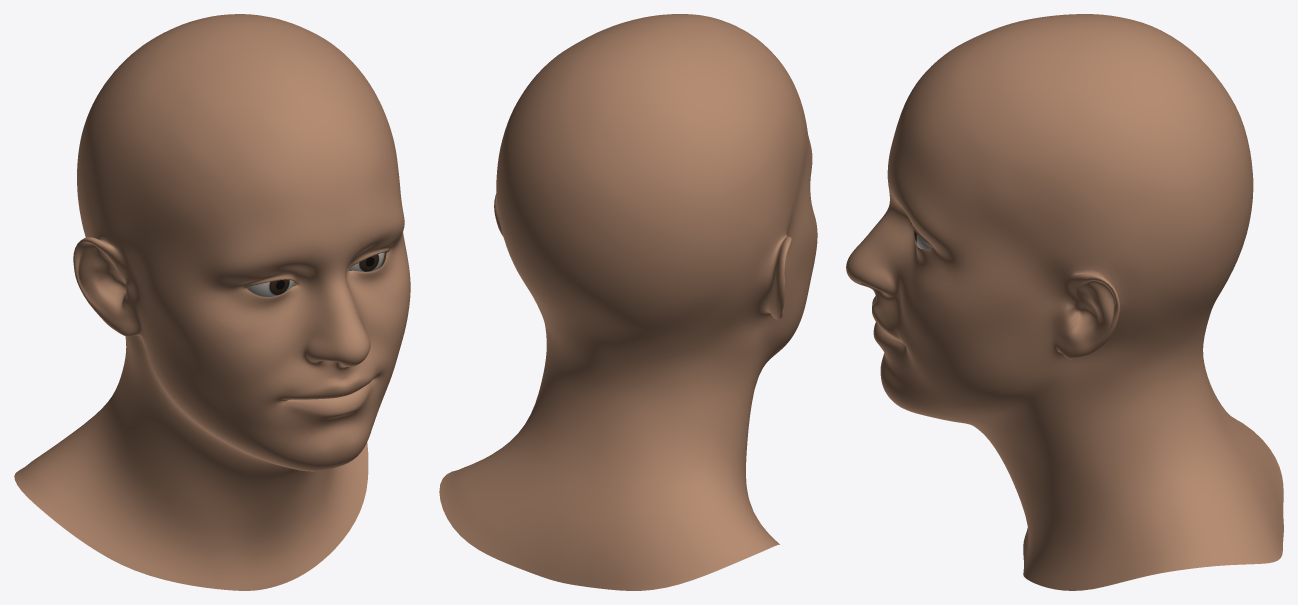
The model's file is head-anatomy-uncompressed.glb.
3 views of the same model, side by side, from view 1: azimuth 30°, elevation 25°; view 2: azimuth 150°, elevation 25°; view 3: azimuth 270°, elevation 25° (orthographic). The views are drawn at different scales.
Parts seen in each view (by area): view 1: Ubaid_FaceBuilder_Head_Study, Eye.R; view 2: Ubaid_FaceBuilder_Head_Study; view 3: Ubaid_FaceBuilder_Head_Study.
Part boxes in pixels (left/top/right/bottom): Ubaid_FaceBuilder_Head_Study: left=14, top=14, right=410, bottom=590; Eye.R: left=246, top=280, right=293, bottom=296; Ubaid_FaceBuilder_Head_Study: left=439, top=14, right=817, bottom=590; Ubaid_FaceBuilder_Head_Study: left=846, top=14, right=1283, bottom=590.
Size of the model in its own units: 0.1915 by 0.2968 by 0.2195.
